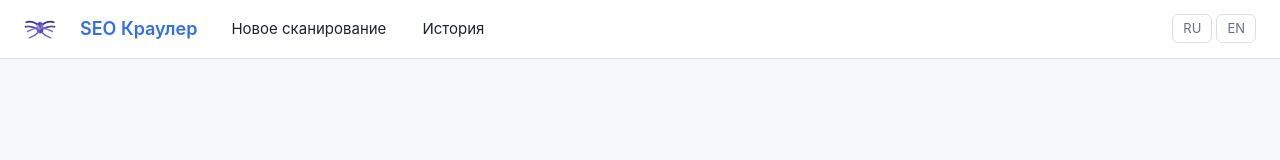
Test case: AppHeader › рендерит навигацию и переключает язык
Click the button with test id "lang-en".
click(1236, 29)  # box [1216,14,1256,43]
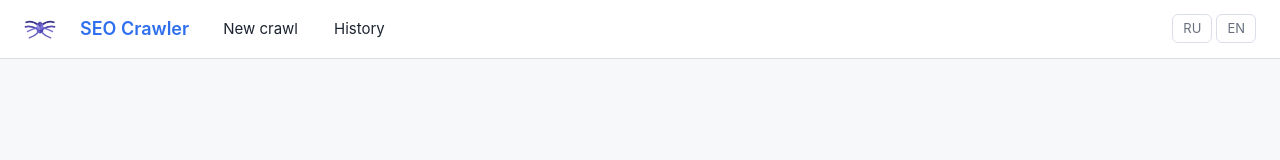
Expected: the text "New crawl" is shown, [223,19,298,38]
